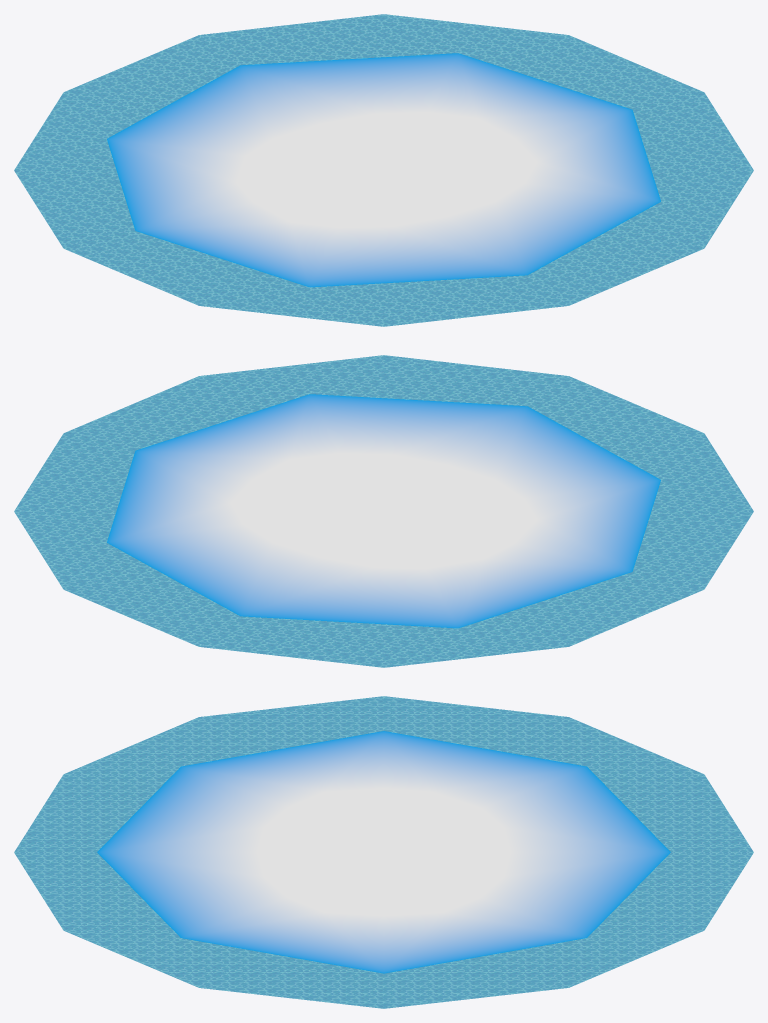
Rendered from mini_stage3-mini_stage3_wate.glb.
3 views of the same model, one above another, from view 1: azimuth 30°, elevation 25°; view 2: azimuth 150°, elevation 25°; view 3: azimuth 270°, elevation 25° (orthographic).
Visible parts, largest first — view 1: mini_stage3_wate; view 2: mini_stage3_wate; view 3: mini_stage3_wate.
Boxes of the visible parts, x1,y1,x2,y2 form: mini_stage3_wate: (14, 14, 753, 326); mini_stage3_wate: (14, 355, 753, 667); mini_stage3_wate: (14, 696, 753, 1008).
Bounding box in the file's own units: 375 × 0.1016 × 375.
2 materials, 2 textured.
